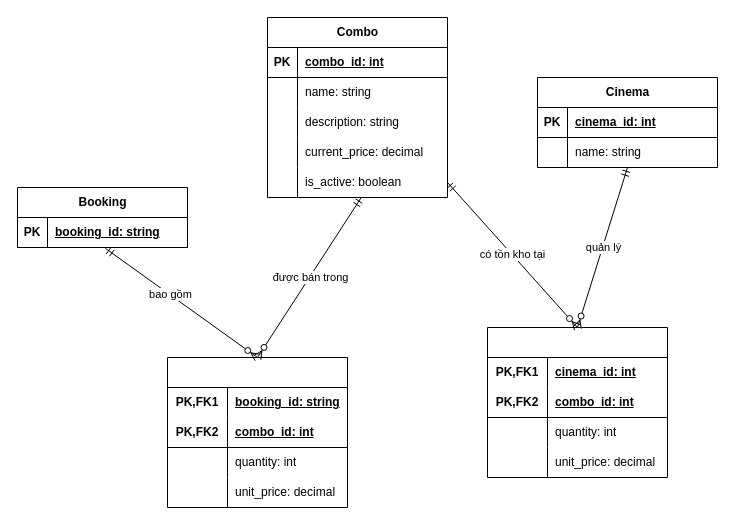
This 735x525 diagram has some shape labels left out. Each missing label, with the box of its shape:
Booking_Combo: (166, 356, 348, 508)
Cinema_Combo_Stock: (486, 326, 668, 478)
